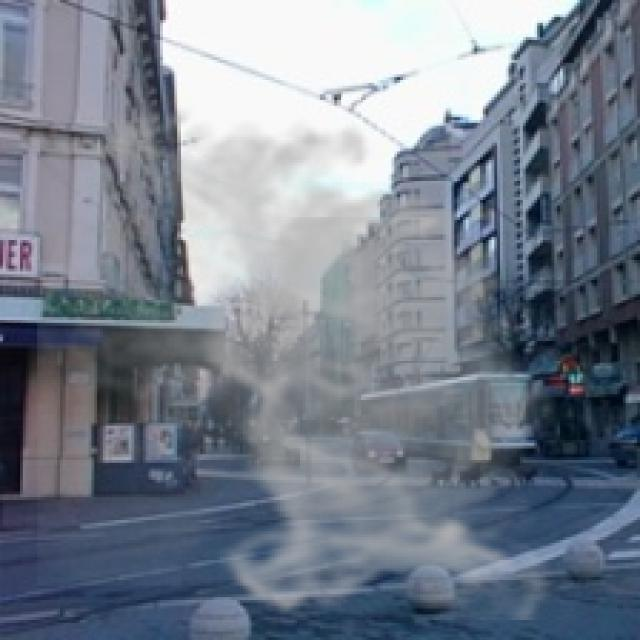smoke: (37, 91, 577, 620)
